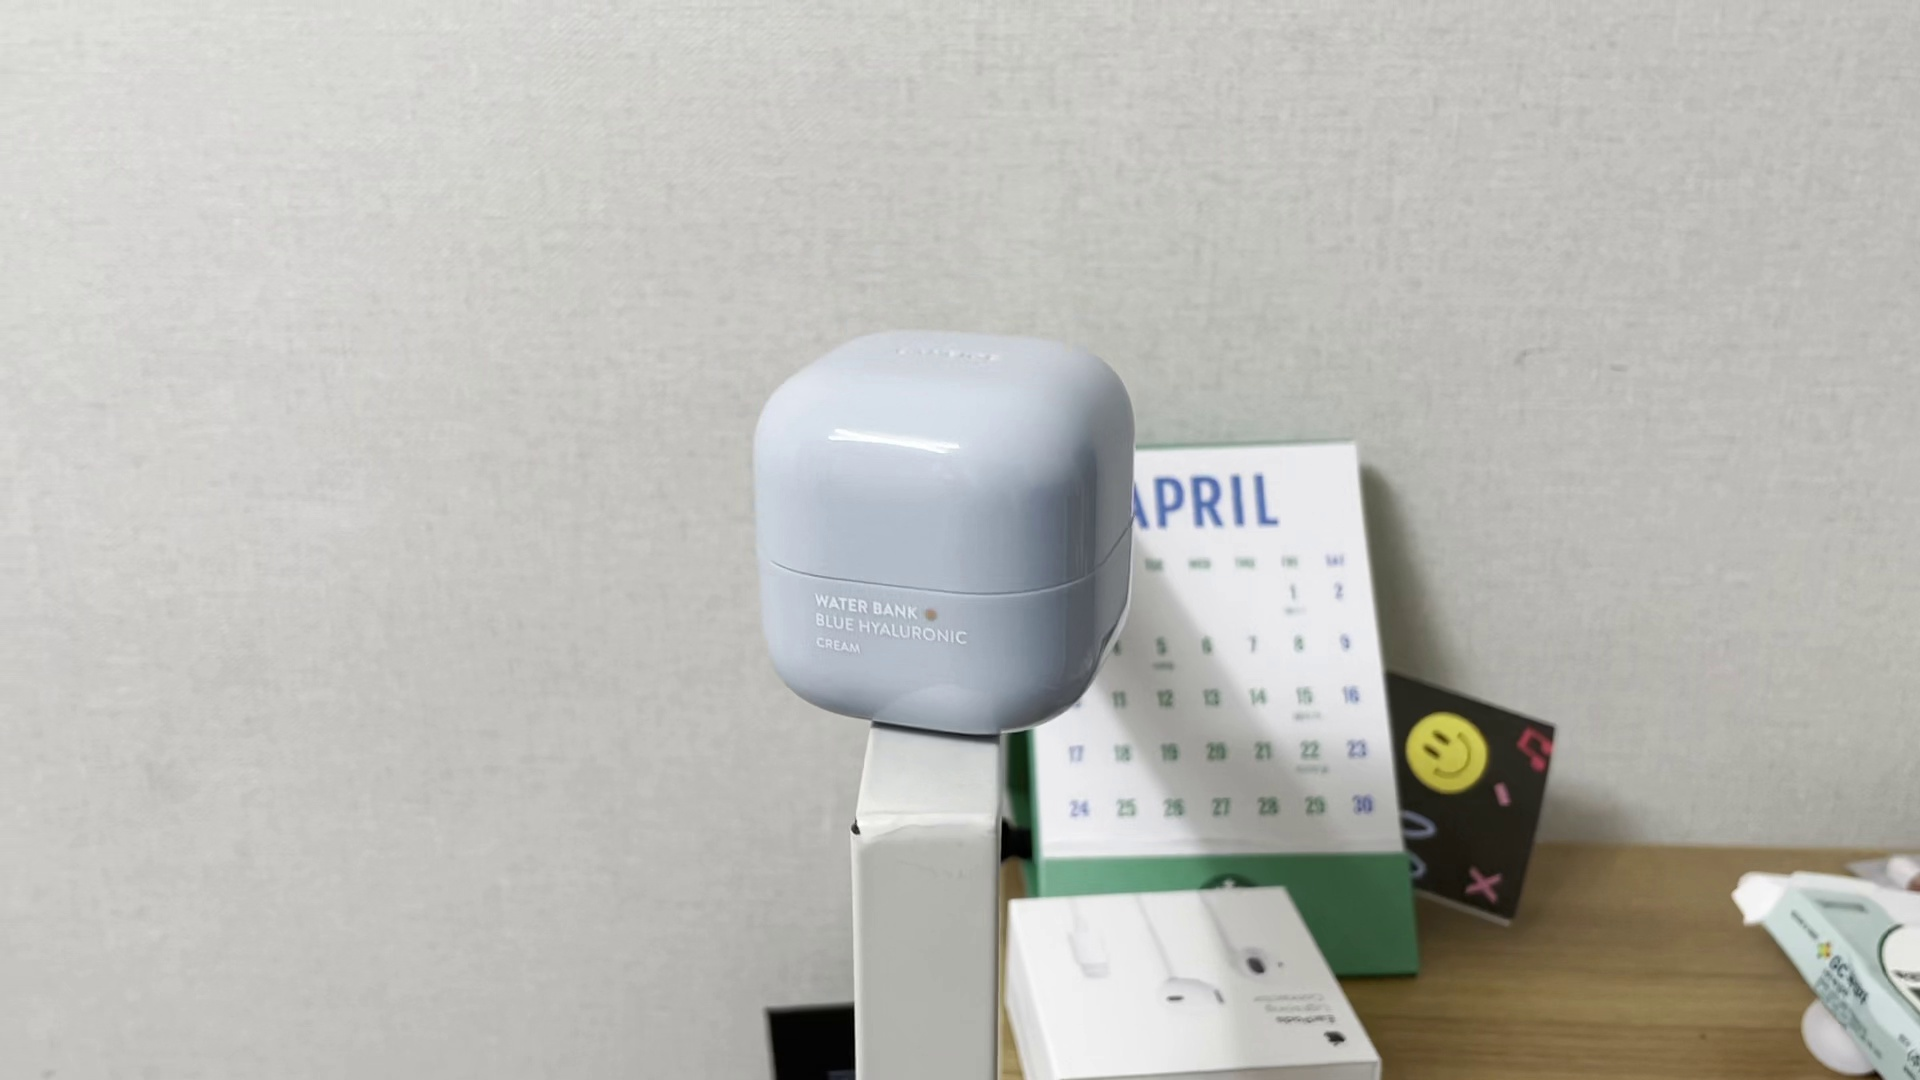cream: (752, 330, 1134, 727)
